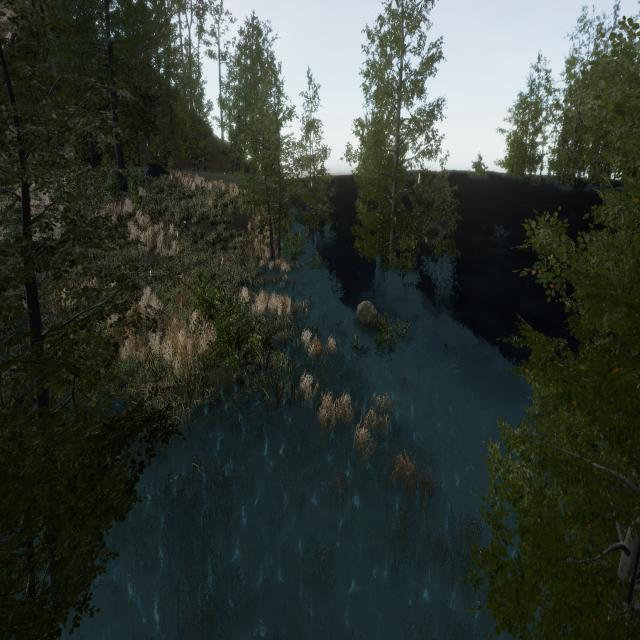Human: (302, 312, 323, 368)
